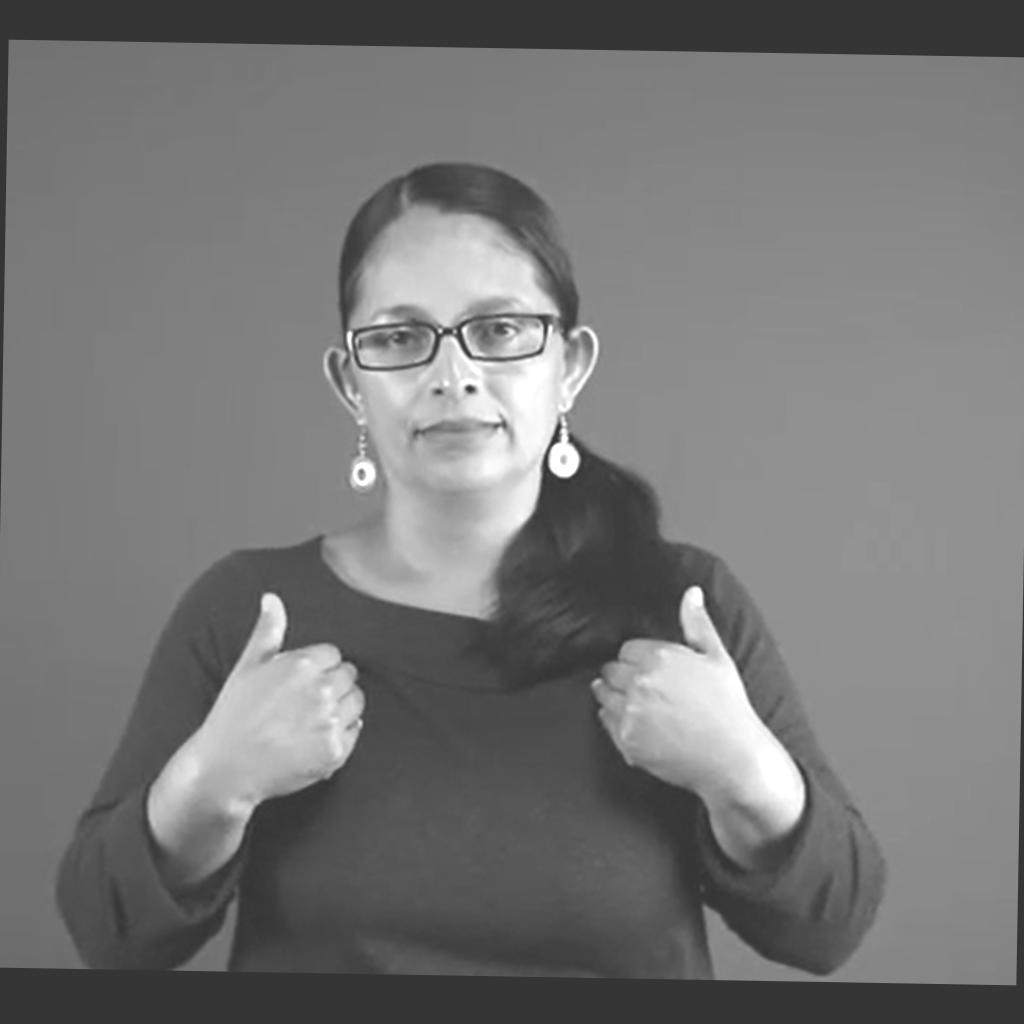have: (201, 578, 749, 805)
